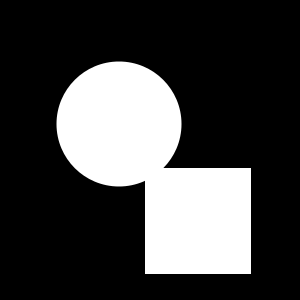circle: (145, 168, 251, 274)
rectangle: (56, 61, 182, 186)
